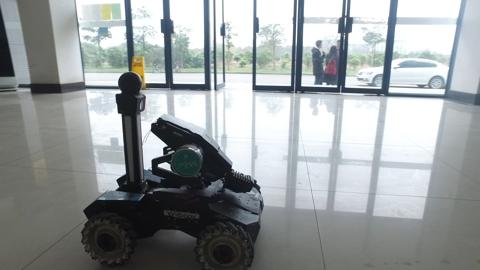chariot: (72, 66, 273, 270)
